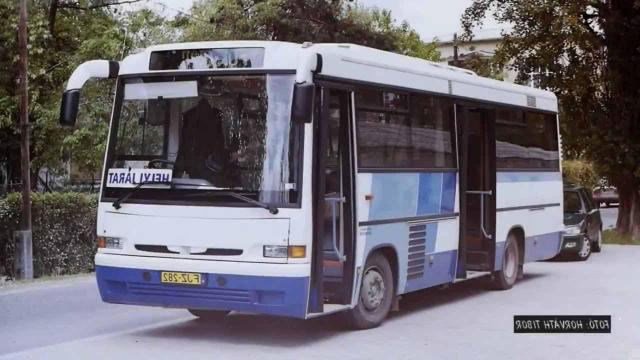bus: (59, 40, 566, 322)
